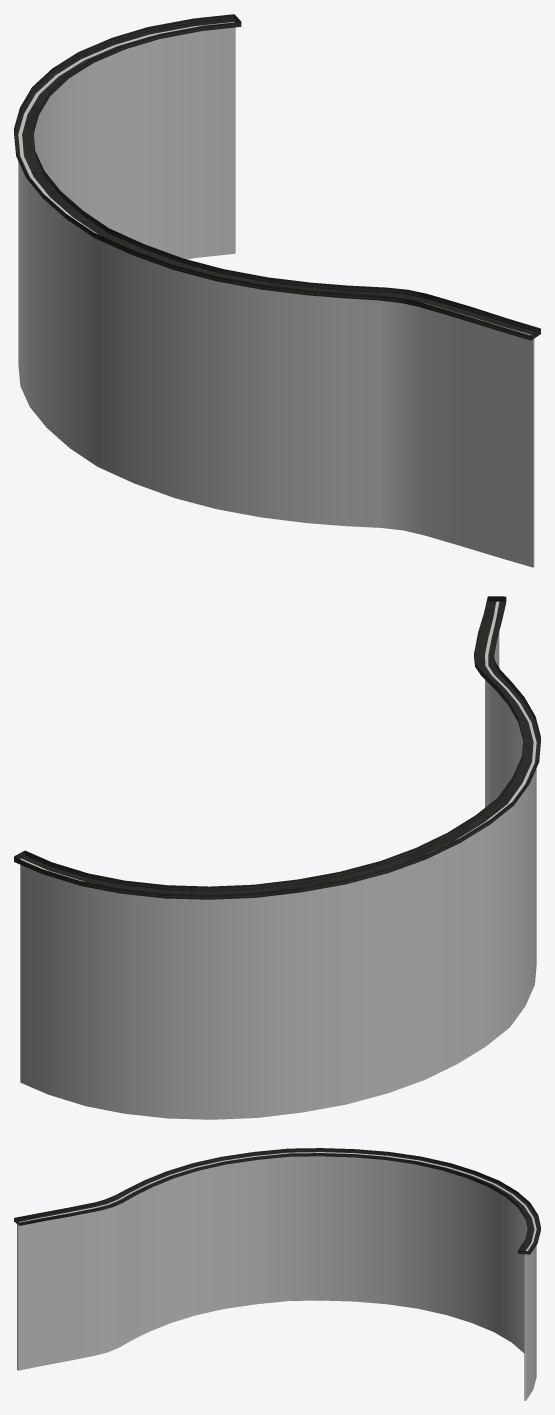
File: desk_reception_ceiling_01_01_black.dae
The picture shows the model from 3 angles, top to bottom: view 1: azimuth 30°, elevation 25°; view 2: azimuth 150°, elevation 25°; view 3: azimuth 270°, elevation 25°; orthographic projection. The views are drawn at different scales.
Visible parts, largest first — view 1: polySurface201, polySurface203; view 2: polySurface201, polySurface203; view 3: polySurface201, polySurface203.
Part boxes in pixels (x1=…): polySurface201: x1=18, y1=22, x2=534, y2=567; polySurface203: x1=14, y1=14, x2=540, y2=340; polySurface201: x1=20, y1=601, x2=536, y2=1119; polySurface203: x1=14, y1=596, x2=540, y2=899; polySurface201: x1=17, y1=1152, x2=536, y2=1400; polySurface203: x1=14, y1=1148, x2=540, y2=1254.
Size of the model in its own units: 258 by 176 by 557.
